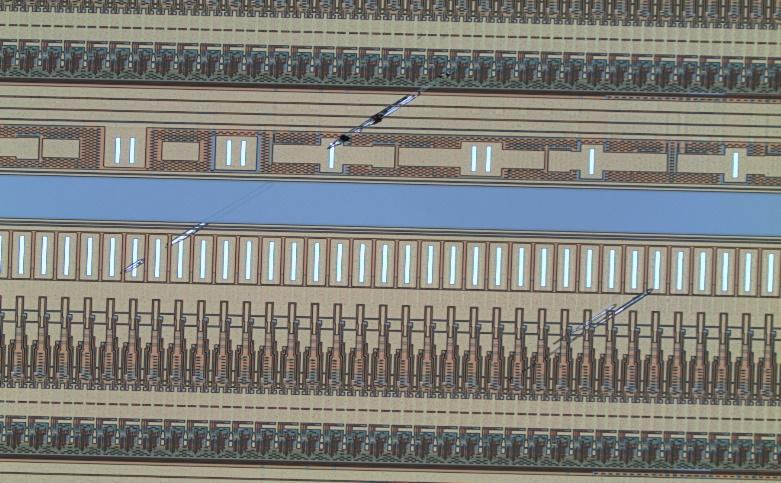SCRATCH: (103, 54, 668, 393)
